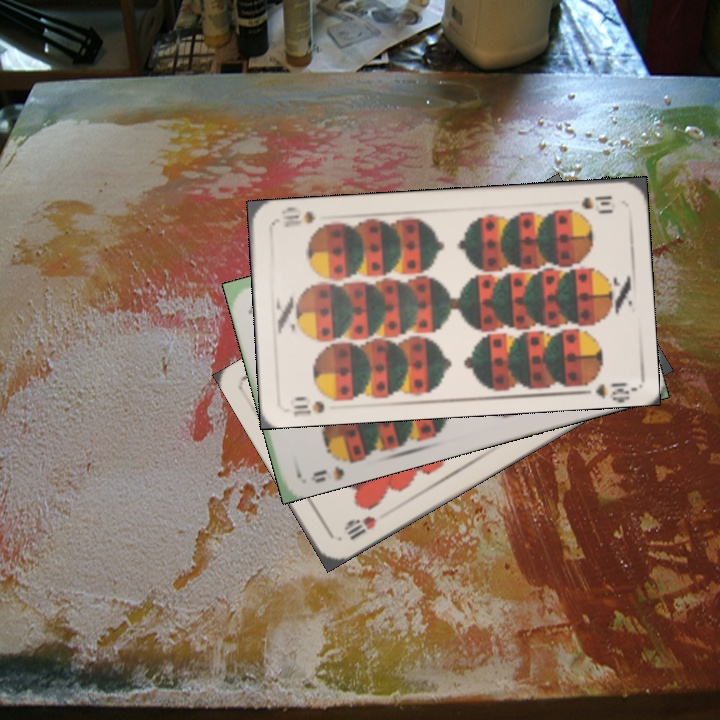H10: (339, 511, 379, 543)
S10: (289, 390, 343, 418), (577, 192, 615, 214)
S9: (307, 449, 358, 486)
